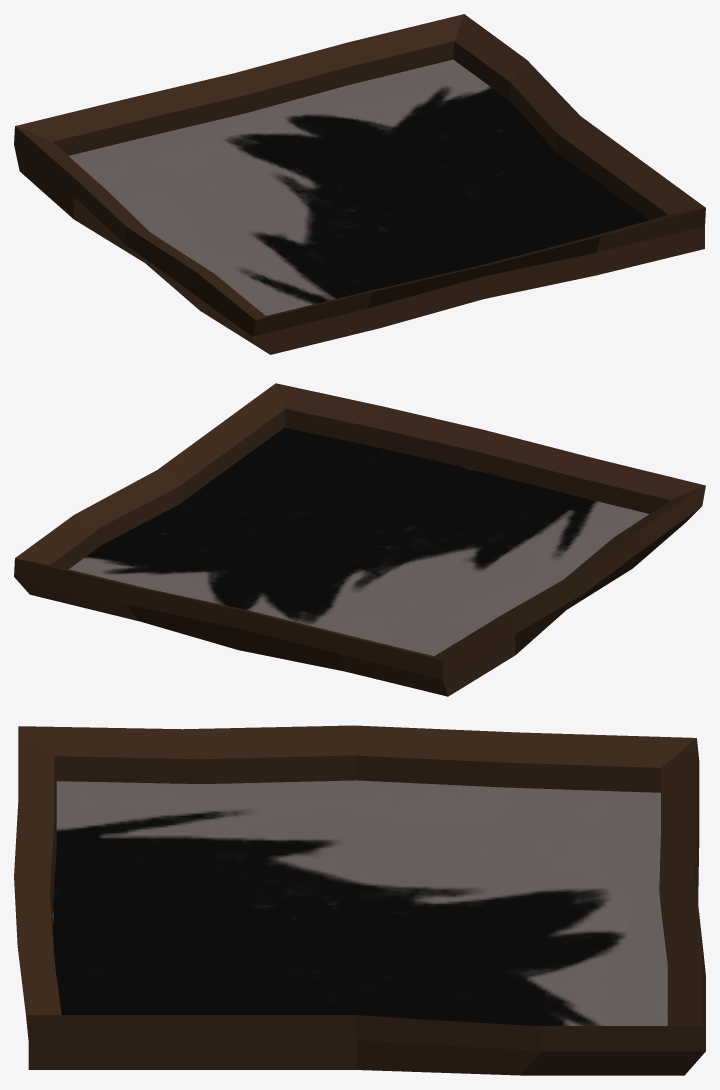
Rendered from EckFrame1.fbx.
3 renders of one model, top to bottom at view 1: azimuth 30°, elevation 25°; view 2: azimuth 150°, elevation 25°; view 3: azimuth 270°, elevation 25°, orthographic. The views are drawn at different scales.
Parts seen in each view (by area): view 1: EckFrame1; view 2: EckFrame1; view 3: EckFrame1.
Part boxes in pixels (bbox=[...]): EckFrame1: bbox=[14, 14, 705, 354]; EckFrame1: bbox=[14, 383, 705, 696]; EckFrame1: bbox=[14, 725, 705, 1075].
Size of the model in its own units: 217 by 18.39 by 211.
